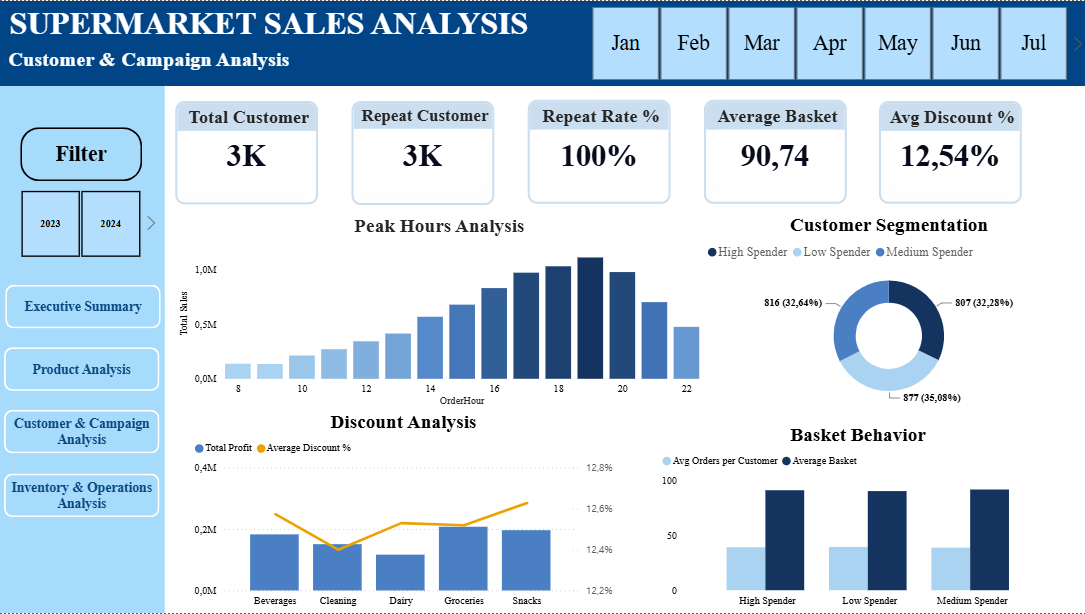

This screenshot's page, from the dashboard's own definition file:
{"tool":"powerbi","page":{"name":"Customer & Campaign Analysis","canvas":[1280,720],"ordinal":2},"visuals":[{"type":"shape","box":[0,0,1280,100],"z":0},{"type":"textbox","box":[6.7,0,653.3,55],"z":1000},{"type":"shape","box":[0,100,195,620],"z":2000},{"type":"cardVisual","title":"Total Customer","fields":{"Data":["Ölçülər.Total customers"]},"box":[206.7,117.5,168.3,121.7],"z":3000},{"type":"cardVisual","title":"Repeat Customer","fields":{"Data":["Ölçülər.Repeat Customers"]},"box":[414.2,118,168,122],"z":4000},{"type":"cardVisual","title":"Repeat Rate %","fields":{"Data":["Ölçülər.Repeat Customer Rate %"]},"box":[621.5,116,168,122],"z":5000},{"type":"cardVisual","title":"Avg Discount %","fields":{"Data":["Ölçülər.Average Discount %"]},"box":[1036,117.7,168,121],"z":6000},{"type":"cardVisual","title":"Average Basket","fields":{"Data":["Ölçülər.Average Basket"]},"box":[828.8,116.8,168,122],"z":7000},{"type":"slicer","fields":{"Values":["DimDate.MonthName"]},"box":[671.7,0,608.3,100],"z":8000},{"type":"actionButton","box":[25,148.3,143.3,63.3],"z":9000},{"type":"actionButton","box":[7.1,334.3,182.9,51.4],"z":10000},{"type":"actionButton","box":[5.7,407.1,182.9,51.4],"z":11000},{"type":"actionButton","box":[5.7,481.4,182.9,51.4],"z":12000},{"type":"actionButton","box":[5.7,555.7,182.9,51.4],"z":13000},{"type":"textbox","box":[6,50,376,48],"z":15000},{"type":"slicer","fields":{"Values":["DimDate.Year"]},"box":[0,216.7,190,91.7],"z":16000},{"type":"donutChart","title":"Customer Segmentation","fields":{"Category":["DimCustomer.Segment"],"Y":["Ölçülər.Total customers"]},"box":[828.3,250,438.3,231.7],"z":18000},{"type":"clusteredColumnChart","title":"Peak Hours Analysis","fields":{"Y":["Ölçülər.Total Sales"],"Category":["FactSales.OrderHour"]},"box":[206.7,251.7,621.7,230],"z":19000},{"type":"lineStackedColumnComboChart","title":"Discount Analysis ","fields":{"Y":["Ölçülər.Total Profit"],"Y2":["Ölçülər.Average Discount %"],"Category":["DimProduct.Category"]},"box":[225,481.7,501.7,238.3],"z":20000},{"type":"clusteredColumnChart","title":"Basket Behavior","fields":{"Category":["DimCustomer.Segment"],"Y":["Ölçülər.Avg Orders per Customer","Ölçülər.Average Basket"]},"box":[775,496.7,471.7,223.3],"z":21000}]}

Visuals, with their boxes in screenshot pixels (x1, y1, x2, y2), scaled from the page's 1280x720 canvas onto the 1085x614 screenshot:
shape: x1=0 y1=0 x2=1084 y2=85
textbox: x1=6 y1=0 x2=559 y2=47
shape: x1=0 y1=85 x2=165 y2=613
"Total Customer" cardVisual: x1=175 y1=100 x2=318 y2=204
"Repeat Customer" cardVisual: x1=351 y1=101 x2=494 y2=205
"Repeat Rate %" cardVisual: x1=527 y1=99 x2=669 y2=203
"Avg Discount %" cardVisual: x1=878 y1=100 x2=1021 y2=204
"Average Basket" cardVisual: x1=703 y1=100 x2=845 y2=204
slicer - DimDate.MonthName: x1=569 y1=0 x2=1084 y2=85
actionButton: x1=21 y1=126 x2=143 y2=180
actionButton: x1=6 y1=285 x2=161 y2=329
actionButton: x1=5 y1=347 x2=160 y2=391
actionButton: x1=5 y1=411 x2=160 y2=454
actionButton: x1=5 y1=474 x2=160 y2=518
textbox: x1=5 y1=43 x2=324 y2=84
slicer - DimDate.Year: x1=0 y1=185 x2=161 y2=263
"Customer Segmentation" donutChart: x1=702 y1=213 x2=1074 y2=411
"Peak Hours Analysis" clusteredColumnChart: x1=175 y1=215 x2=702 y2=411
"Discount Analysis " lineStackedColumnComboChart: x1=191 y1=411 x2=616 y2=613
"Basket Behavior" clusteredColumnChart: x1=657 y1=424 x2=1057 y2=613
